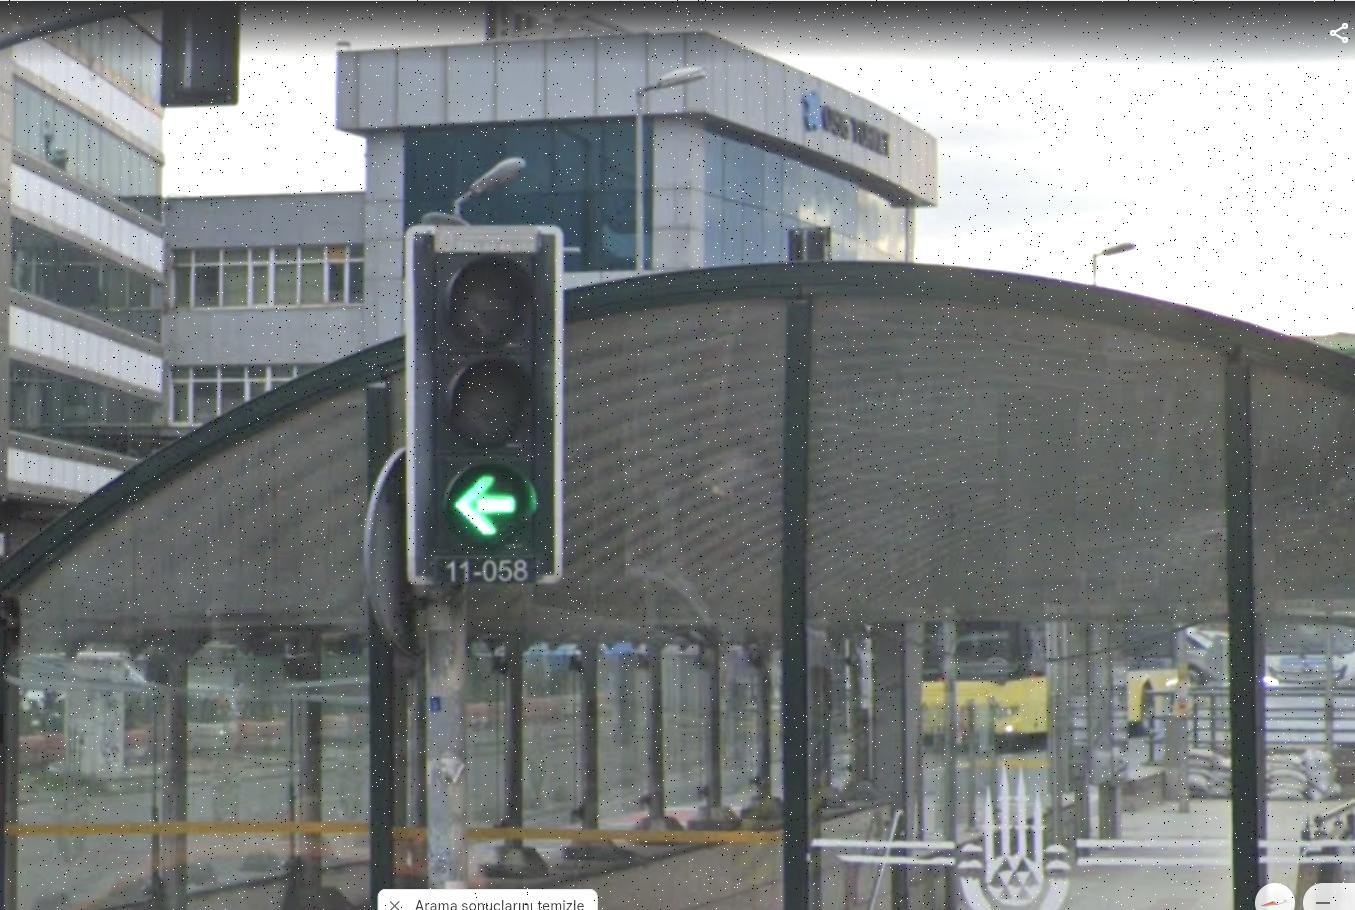greenlight: (416, 222, 557, 579)
